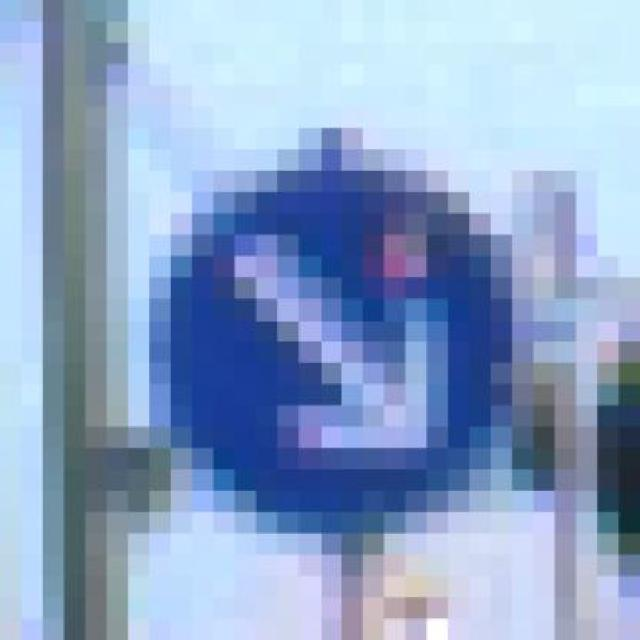Keep-Right: (128, 129, 555, 576)
